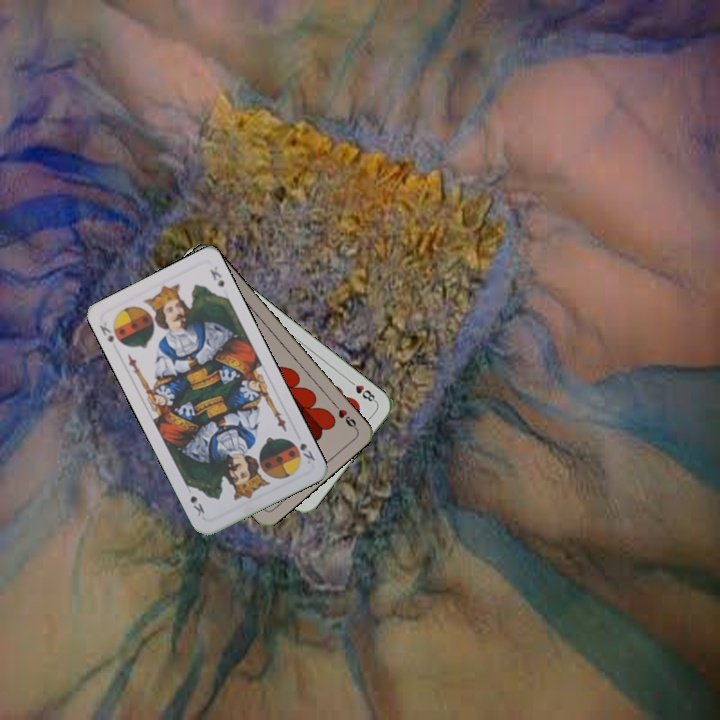H8: (344, 376, 379, 405)
H9: (329, 399, 359, 432)
SK: (95, 317, 117, 347), (296, 439, 318, 466)
